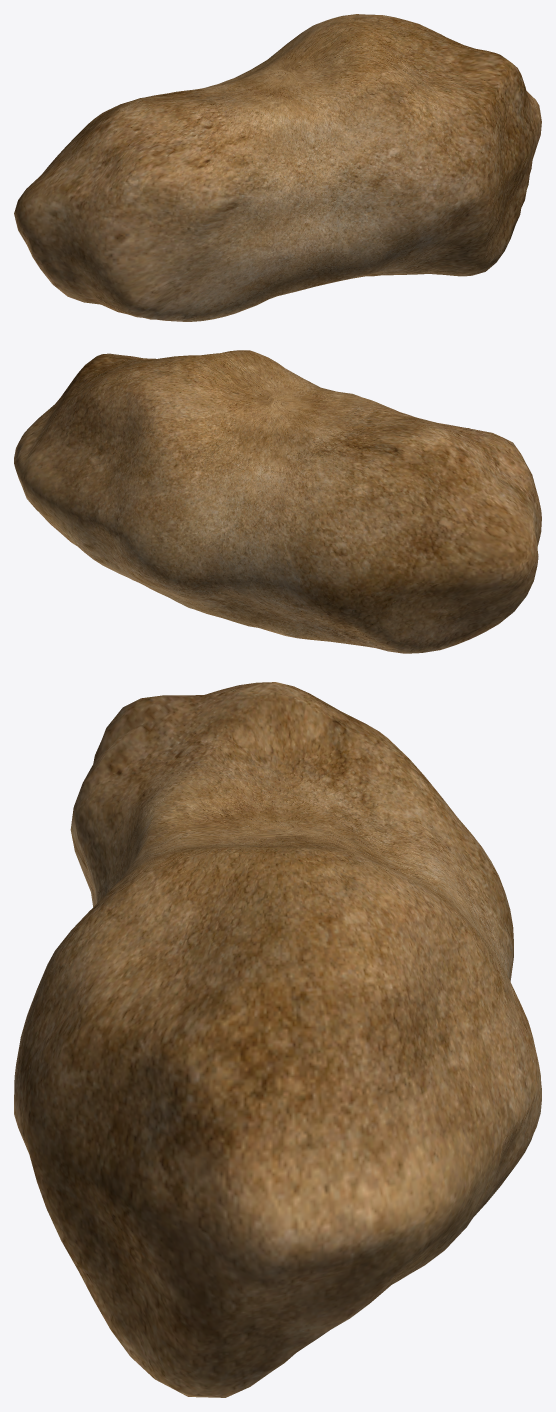
The model's file is bacchus.gltf.
The picture shows the model from 3 angles, top to bottom: view 1: azimuth 30°, elevation 25°; view 2: azimuth 150°, elevation 25°; view 3: azimuth 270°, elevation 25°; orthographic projection. The views are drawn at different scales.
Parts seen in each view (by area): view 1: bacchus; view 2: bacchus; view 3: bacchus.
Boxes of the visible parts, x1=… form: bacchus: x1=14, y1=14, x2=541, y2=321; bacchus: x1=14, y1=350, x2=541, y2=653; bacchus: x1=14, y1=682, x2=541, y2=1397.
Bounding box in the file's own units: 147 × 67.79 × 70.81.
